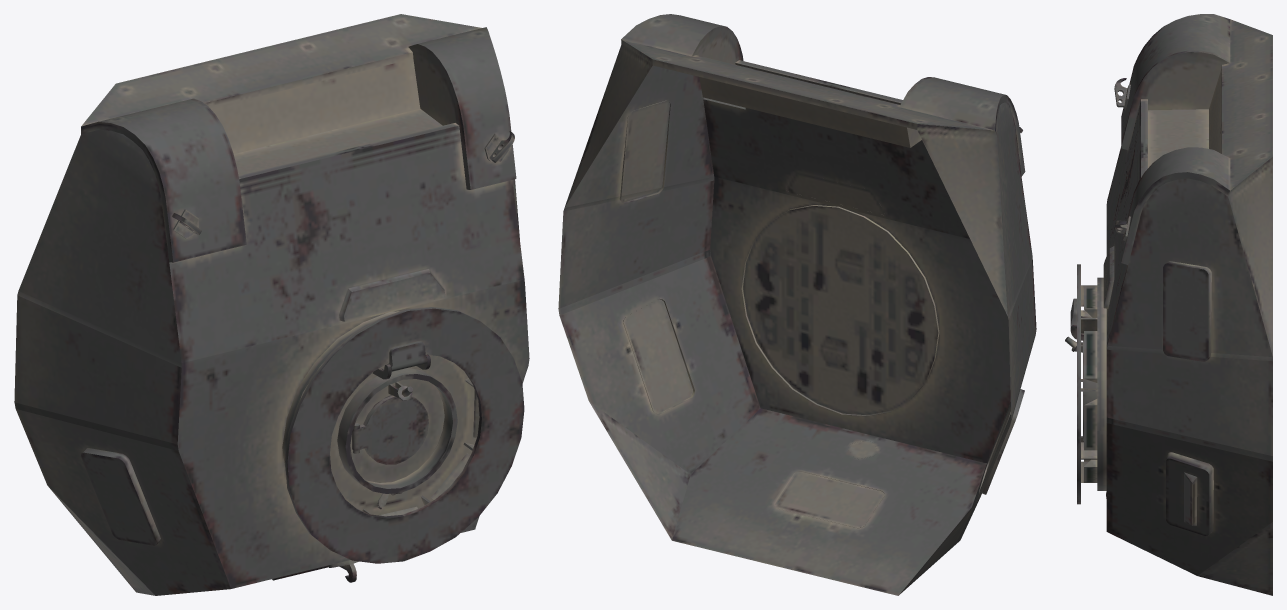
The model's file is Turret_01.glb.
The picture shows the model from 3 angles, left to right: view 1: azimuth 30°, elevation 25°; view 2: azimuth 150°, elevation 25°; view 3: azimuth 270°, elevation 25°; orthographic projection. The views are drawn at different scales.
Visible parts, largest first — view 1: set_0_group_0; view 2: set_0_group_0; view 3: set_0_group_0.
Part boxes in pixels (x1,y1,x2,y2): set_0_group_0: (14, 14, 529, 595); set_0_group_0: (558, 14, 1036, 595); set_0_group_0: (1065, 14, 1272, 595).
Bounding box in the file's own units: 1.45 × 1.47 × 0.6141.
1 material, 1 textured.
